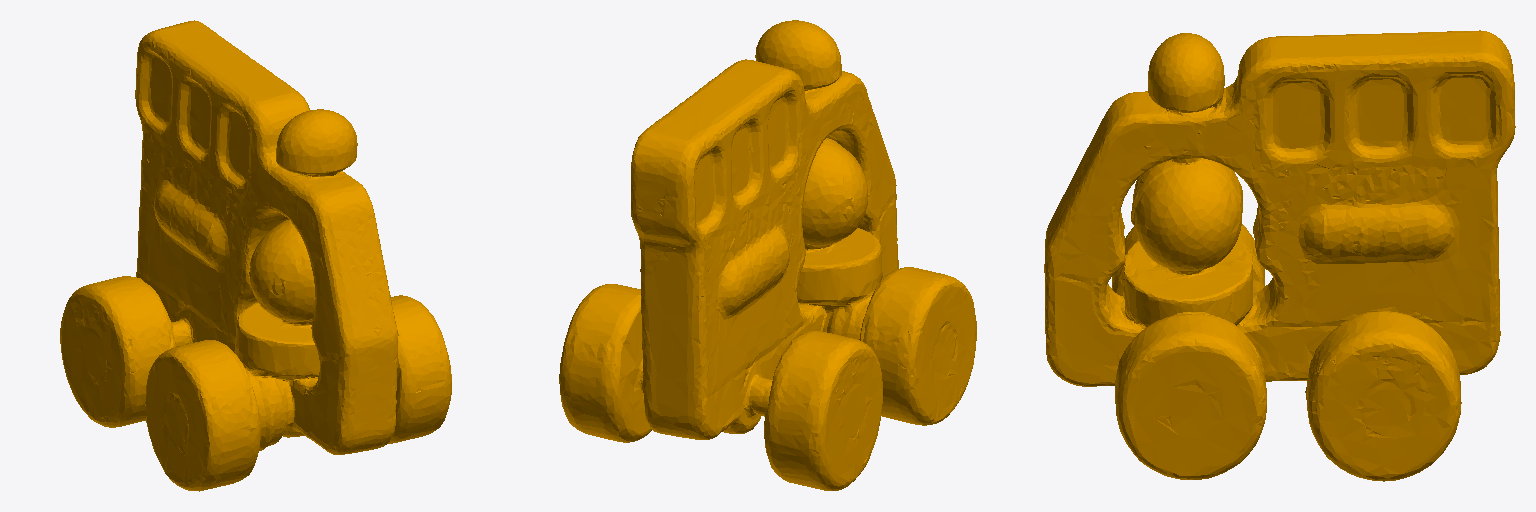
robot.urdf — 15igat3a:
<?xml version='1.0'?>

<robot name="15igat3a">
    <static>false</static>
    <link name="link">
        <inertial>
            <mass value="0.07470528211198024"/>
            <inertia ixx="0.00015100573873359695" ixy="2.380566671914322e-07" ixz="-3.0827149295616506e-06"
                     iyy="0.00010372844852803616" iyz="-9.01369569382992e-06" izz="0.00011705414727583703"/>
        </inertial>
        <collision name="collision">
            <geometry>
                <mesh filename="package://miscnet/train/15igat3a/collision_model_vhacd.obj"/>
            </geometry>
        </collision>
        <visual name="visual">
            <geometry>
                <mesh filename="package://miscnet/train/15igat3a/visual_model.obj"/>
            </geometry>
        </visual>
    </link>
</robot>

--- Facts derived from the render (not from the file) ---
The picture shows the robot from 3 angles, left to right: view 1: azimuth 30°, elevation 25°; view 2: azimuth 150°, elevation 25°; view 3: azimuth 270°, elevation 25°; orthographic projection.
Model 15igat3a with 1 links and 0 joints (none), rooted at link, posed every joint at zero.
Visible links, largest first — view 1: link; view 2: link; view 3: link.
Boxes of the visible links, x1,y1,x2,y2 form: link: (60, 20, 451, 491); link: (559, 20, 976, 490); link: (1044, 30, 1515, 481).
Bounding box of the posed robot: 0.0939 × 0.134 × 0.1219 m (x, y, z).
1 mesh visuals loaded from 1 distinct referenced files (1 OBJ).
